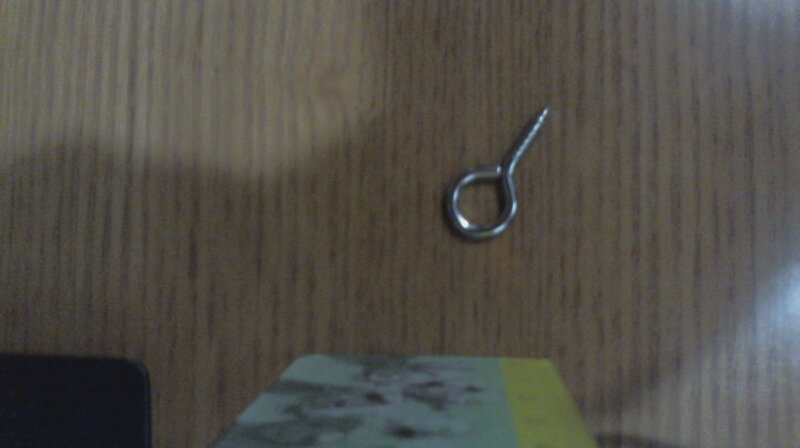O001: (439, 99, 558, 244)
